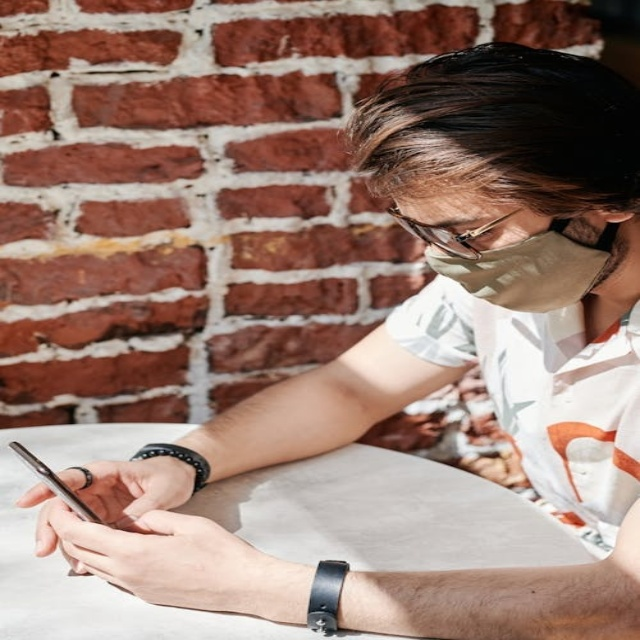Gafas: (386, 204, 544, 259)
Mascara: (419, 214, 617, 314)
Sin_guantes: (45, 502, 270, 615), (15, 443, 202, 562)
